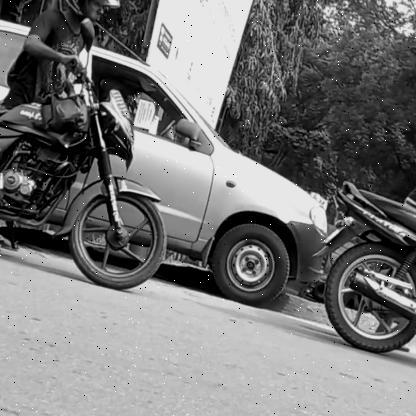motorcycle: (0, 13, 177, 294), (306, 144, 416, 416)
